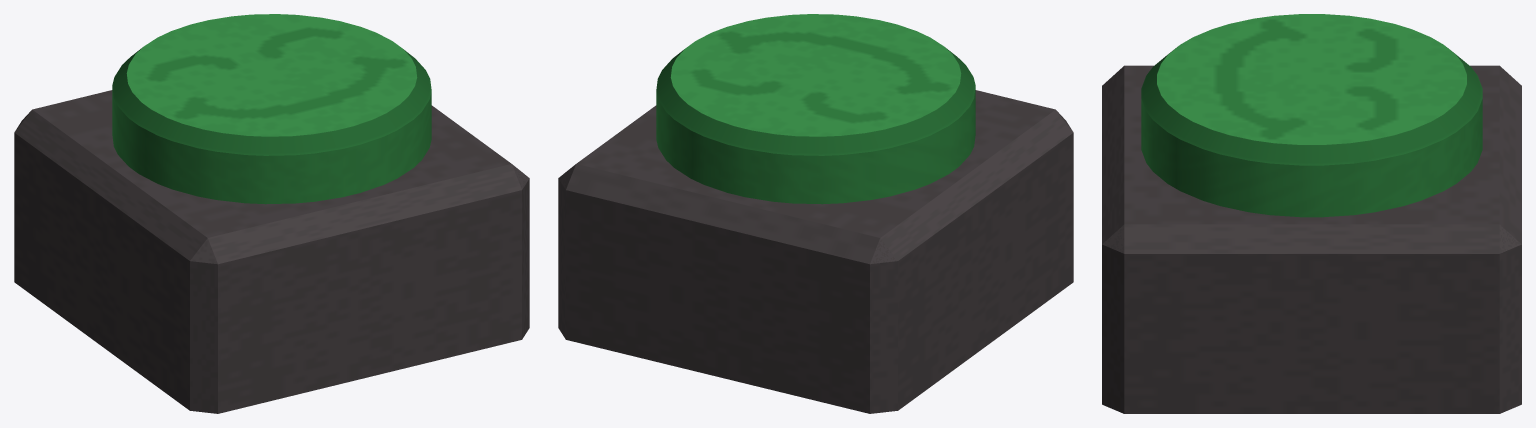
Rendered from Button.fbx.
3 views of the same model, side by side, from view 1: azimuth 30°, elevation 25°; view 2: azimuth 150°, elevation 25°; view 3: azimuth 270°, elevation 25° (orthographic). The views are drawn at different scales.
Parts seen in each view (by area): view 1: pCube47, Button; view 2: pCube47, Button; view 3: pCube47, Button.
Boxes of the visible parts, bbox=[...] form: pCube47: bbox=[14, 90, 529, 413]; Button: bbox=[112, 14, 431, 204]; pCube47: bbox=[558, 90, 1073, 413]; Button: bbox=[656, 14, 975, 204]; pCube47: bbox=[1102, 65, 1521, 413]; Button: bbox=[1141, 14, 1482, 217].
Size of the model in its own units: 21.92 by 14.16 by 21.92.
